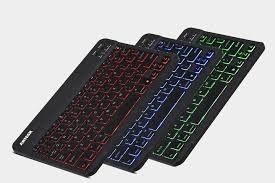keyboard: (19, 40, 175, 174)
